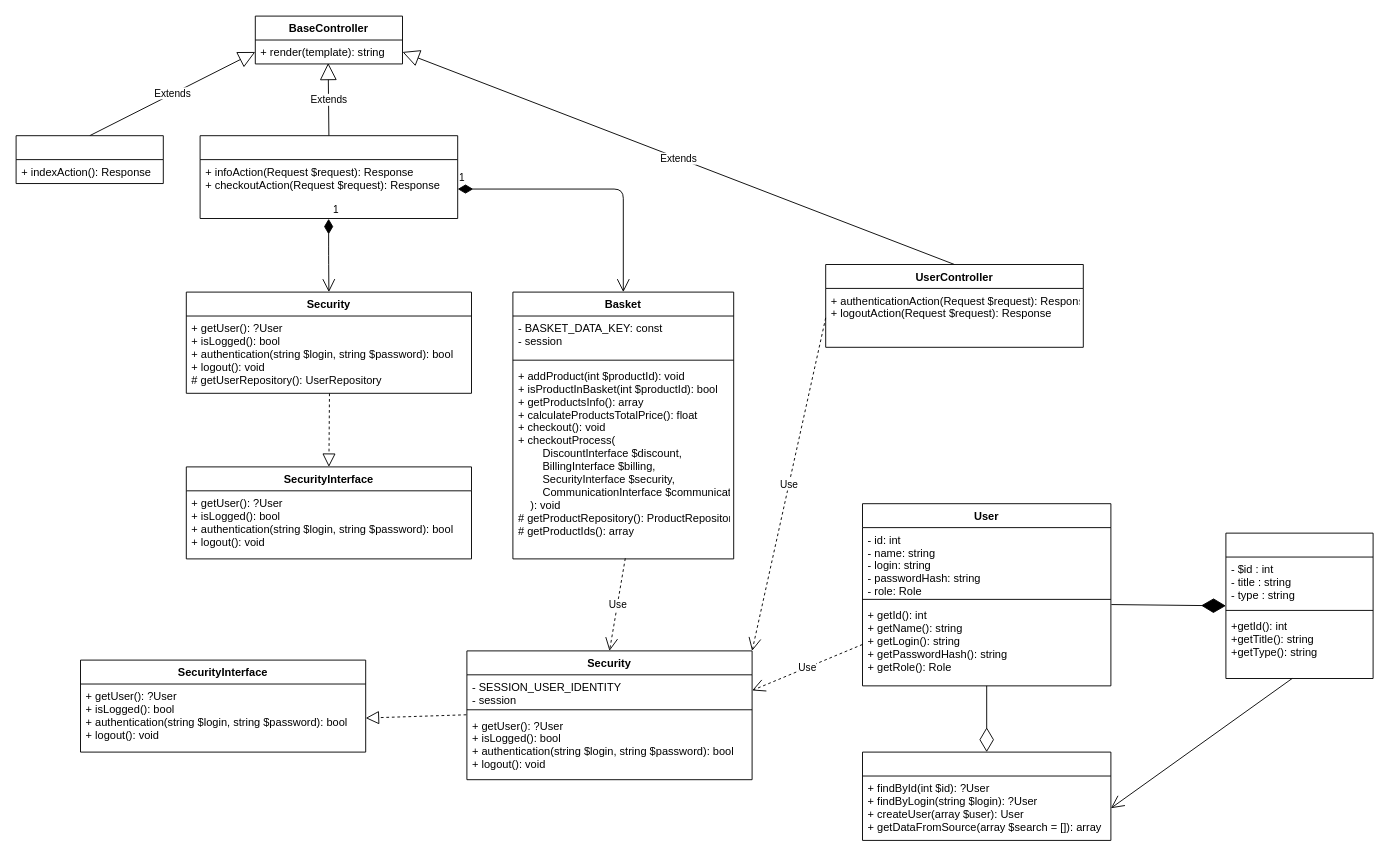
This 1389x859 diagram has some shape labels left out. Each missing label, with the box of its shape:
MainController: (15, 135, 163, 184)
OrderController: (199, 135, 458, 218)
Role: (1225, 532, 1373, 678)
UserRepository: (862, 751, 1111, 840)
